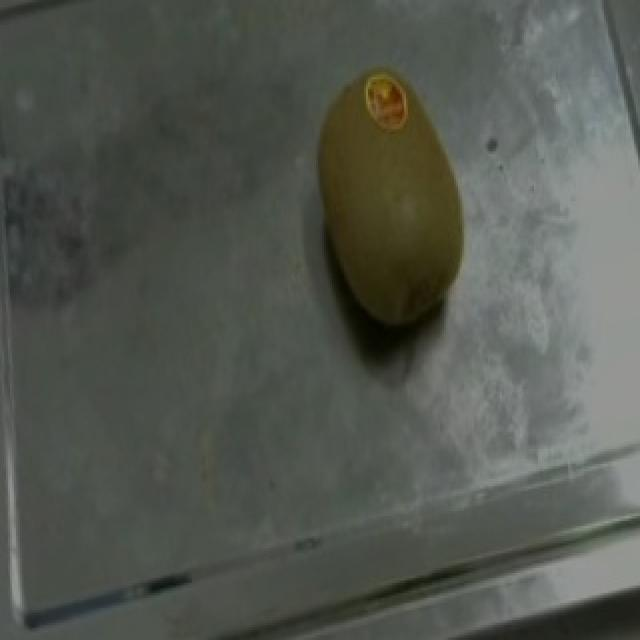Fruit: (280, 55, 504, 362)
